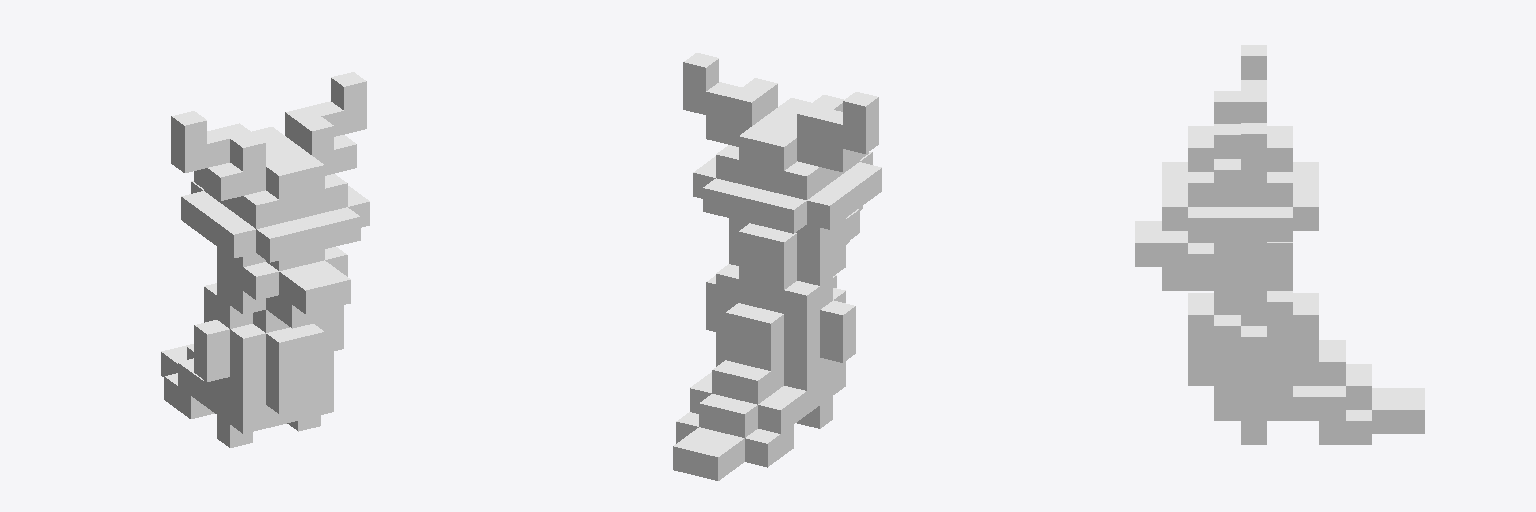
The model's file is Viking.obj.
3 renders of one model, left to right at view 1: azimuth 30°, elevation 25°; view 2: azimuth 150°, elevation 25°; view 3: azimuth 270°, elevation 25°, orthographic.
Parts seen in each view (by area): view 1: object 1; view 2: object 1; view 3: object 1.
Boxes of the visible parts, x1=… form: object 1: x1=161, y1=72, x2=369, y2=447; object 1: x1=673, y1=53, x2=881, y2=480; object 1: x1=1135, y1=45, x2=1424, y2=444.
Bounding box in the file's own units: 0.8 × 1.4 × 1.1.